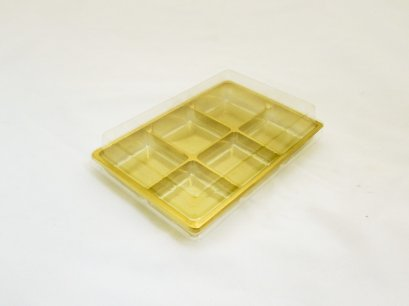PlasticBox: (81, 66, 330, 243)
